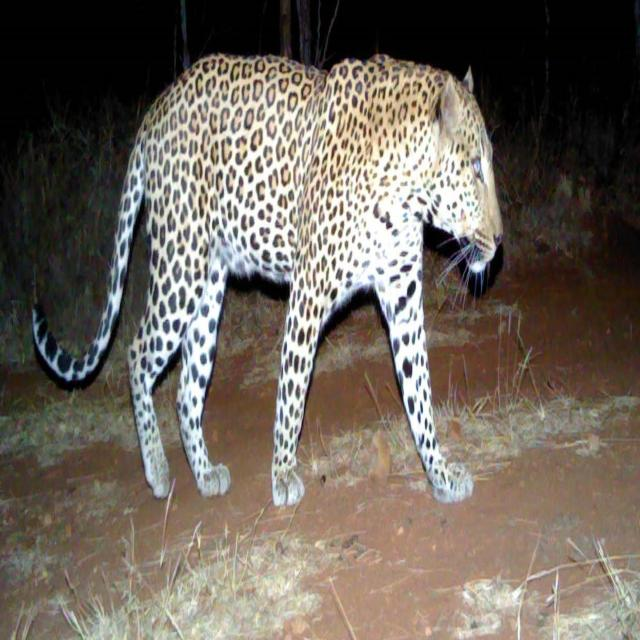Leopard: (23, 58, 514, 530)
